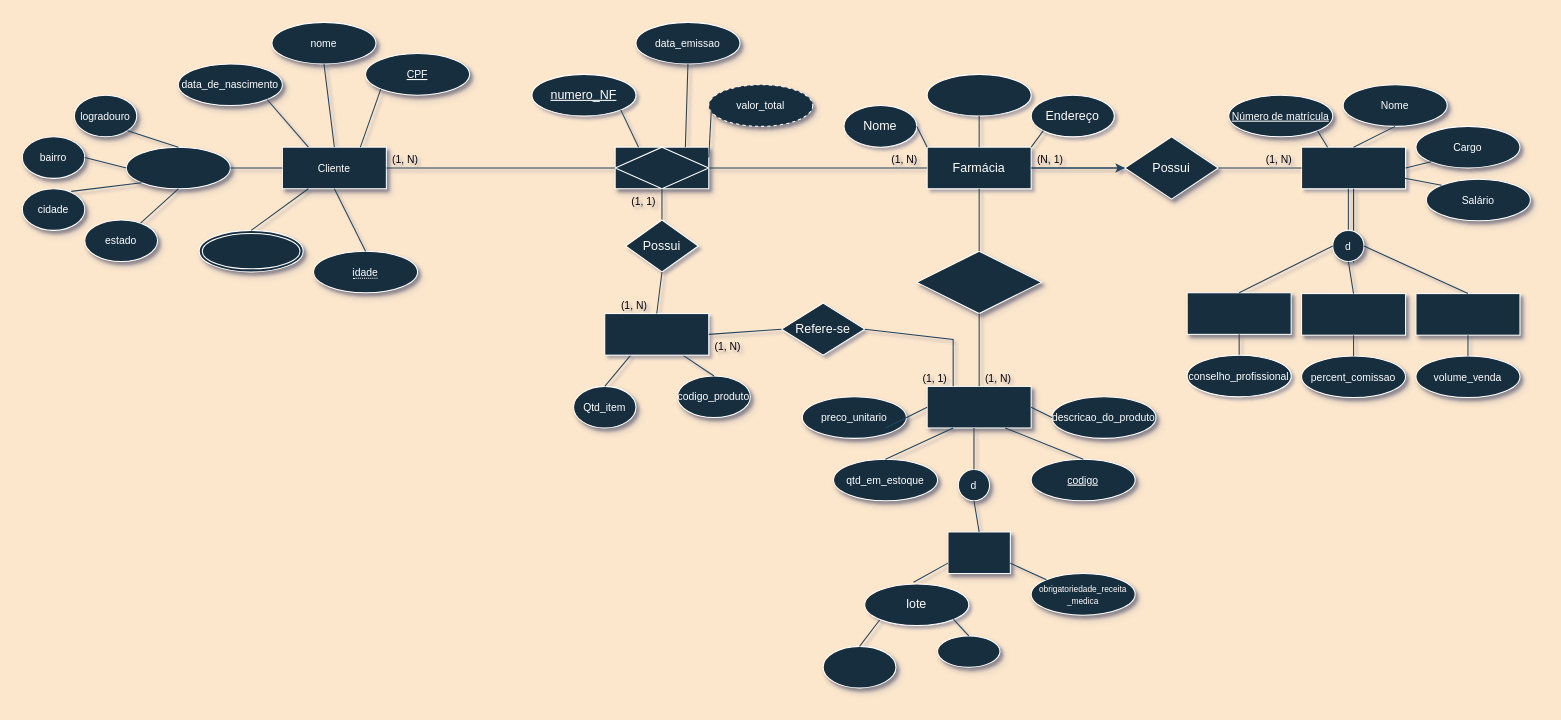
Image size: 1561x720. Some labels were removed from this diagram. The centre of each missing label's shape, as x and y in pixels:
Atendente: the point at 1354,315
CNPJ: the point at 978,94
data_validade: the point at 860,668
endereco: the point at 179,169
Farmacêutico: the point at 1239,315
Funcionário: the point at 1353,167
Gerente: the point at 1468,315
id_lote: the point at 969,652
Item_NF: the point at 656,334
nota_fiscal: the point at 662,169
Produto: the point at 979,408
remedio: the point at 980,554
telefone: the point at 251,252
Vende: the point at 980,283
